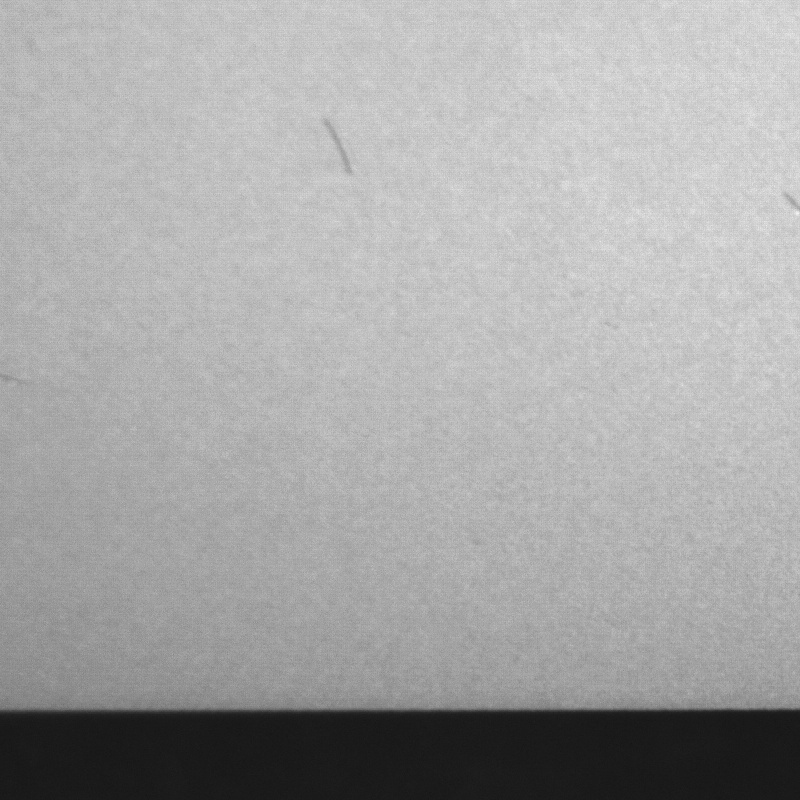defect: (320, 113, 354, 182), (782, 181, 800, 211)
